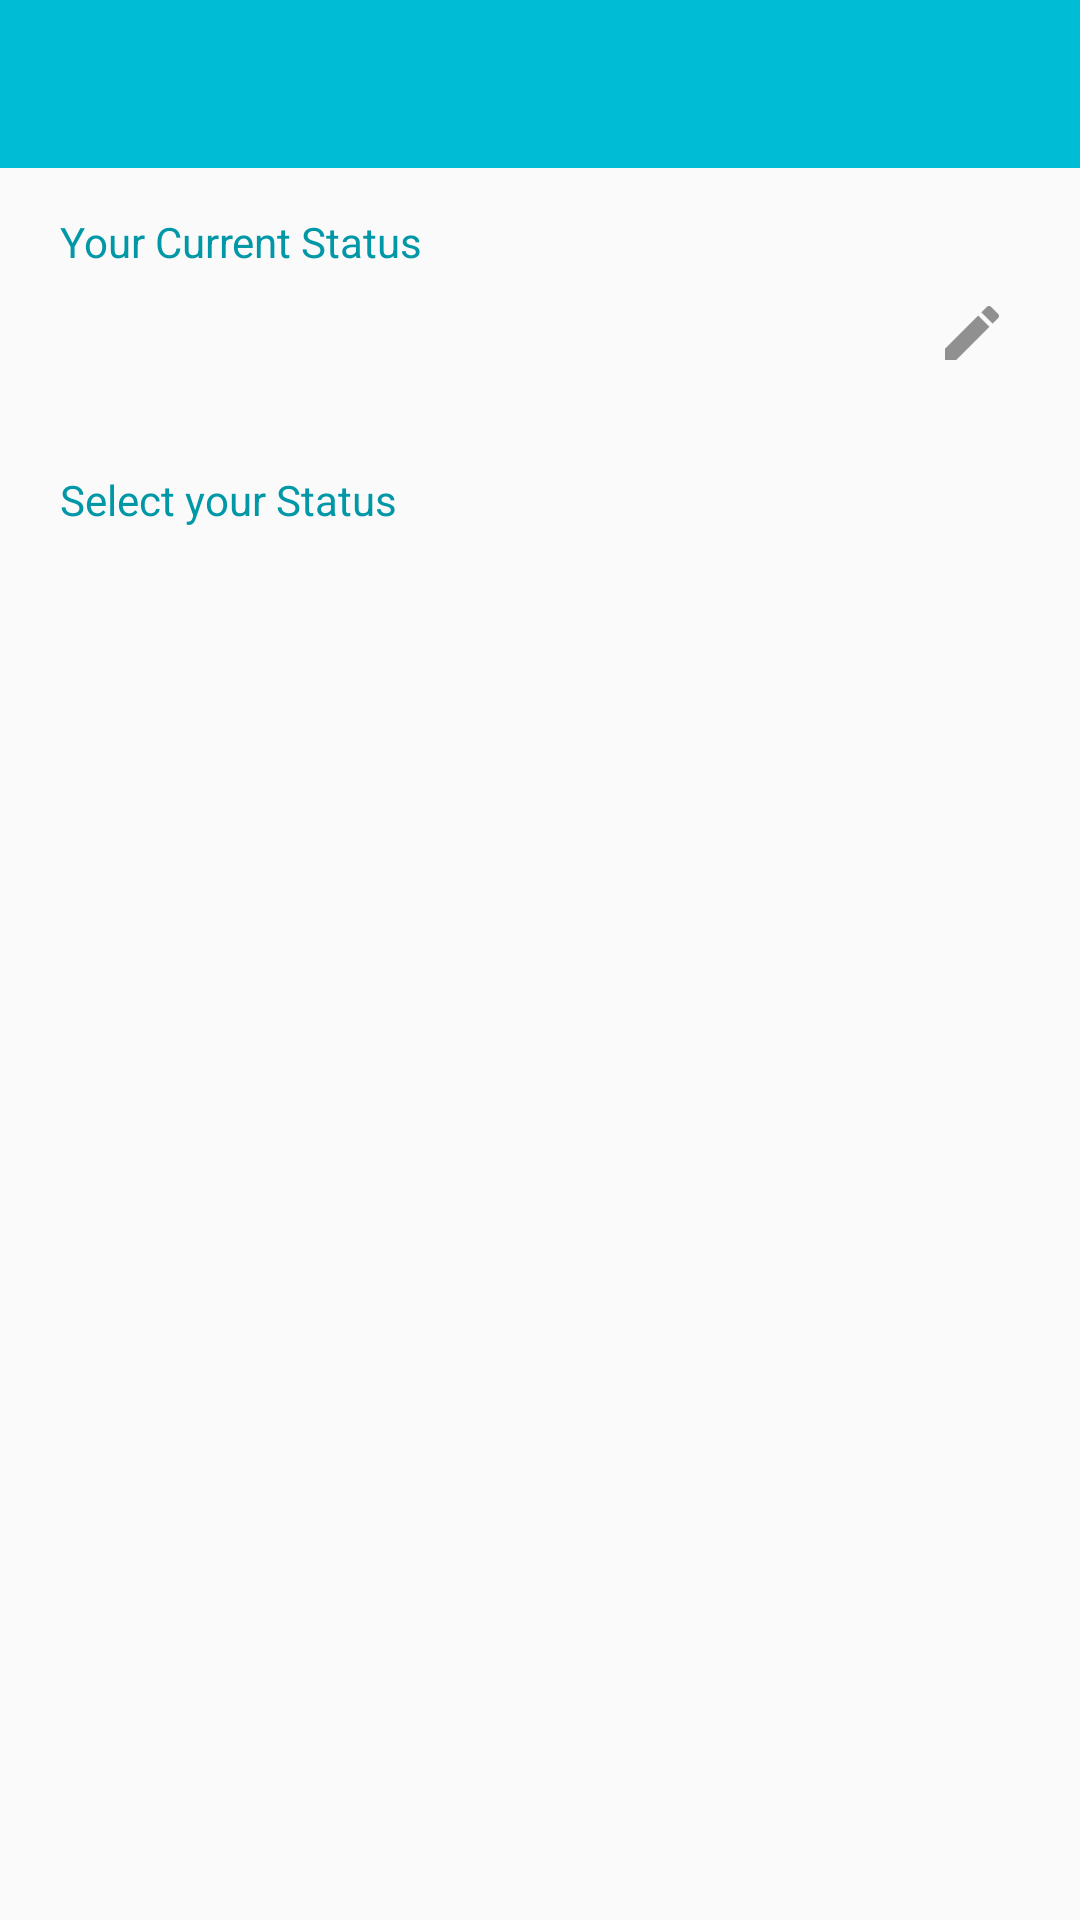

Where to tap for icons on this 1080w x 1920h app screen, as point (x, y):
edit status: point (972, 333)
